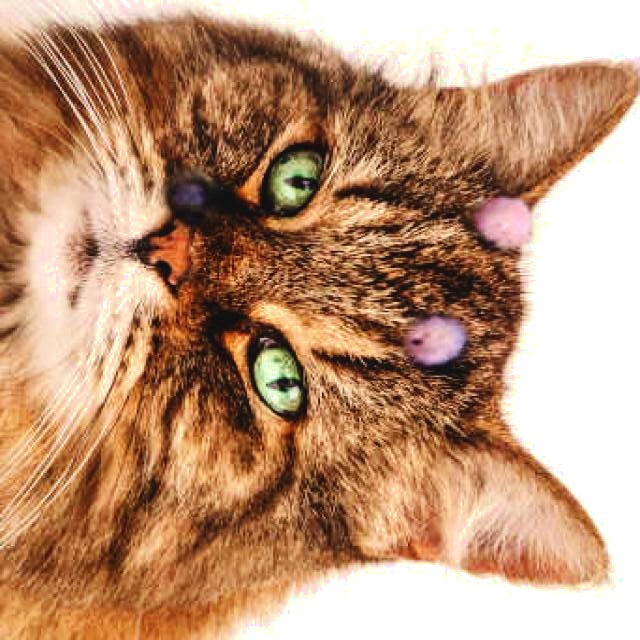lump_and_bump: (465, 198, 537, 250), (399, 320, 468, 362), (170, 183, 210, 221)
